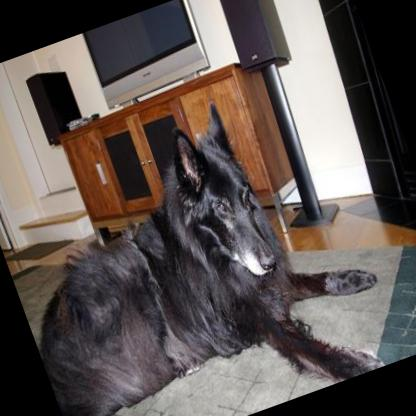groenendael: (0, 70, 402, 416)
